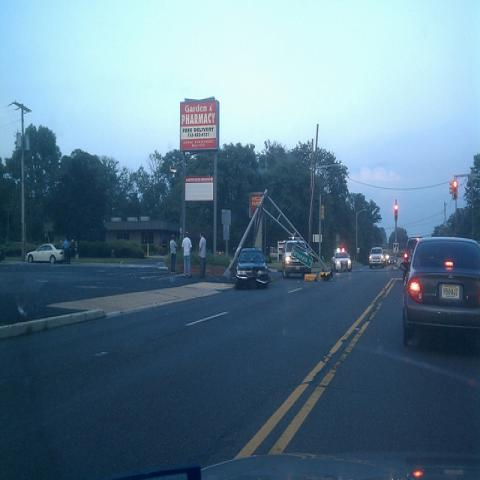car: (402, 233, 478, 348), (235, 248, 271, 288), (281, 240, 312, 279), (26, 244, 64, 264), (331, 247, 352, 272), (369, 247, 384, 268), (390, 255, 396, 264)
